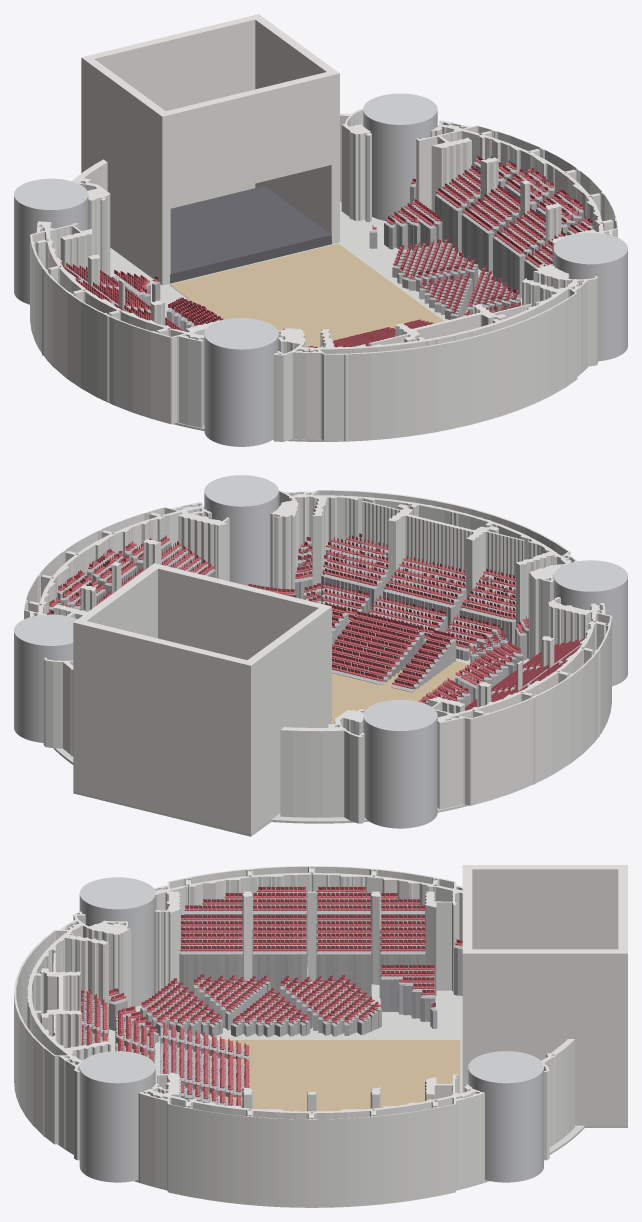
Rendered from olympichall.glb.
3 views of the same model, one above another, from view 1: azimuth 30°, elevation 25°; view 2: azimuth 150°, elevation 25°; view 3: azimuth 270°, elevation 25° (orthographic). The views are drawn at different scales.
Visible parts, largest first — view 1: wall, tower, floor, step, stage, seat_back, seat, ground; view 2: wall, tower, step, seat_back, seat, floor, ground; view 3: wall, step, tower, seat_back, floor, seat, ground.
Part boxes in pixels (left/top/right/bottom): wall: left=30, top=14, right=617, bottom=441; tower: left=14, top=93, right=627, bottom=446; floor: left=169, top=243, right=443, bottom=347; step: left=68, top=162, right=592, bottom=331; stage: left=170, top=186, right=331, bottom=283; seat_back: left=62, top=155, right=592, bottom=347; seat: left=62, top=158, right=592, bottom=347; ground: left=110, top=202, right=587, bottom=441; wall: left=24, top=489, right=611, bottom=834; tower: left=14, top=475, right=627, bottom=828; step: left=49, top=538, right=579, bottom=706; seat_back: left=47, top=533, right=584, bottom=710; seat: left=49, top=537, right=578, bottom=709; floor: left=332, top=646, right=469, bottom=724; ground: left=53, top=658, right=529, bottom=836; wall: left=14, top=865, right=627, bottom=1207; step: left=82, top=892, right=462, bottom=1107; tower: left=79, top=877, right=543, bottom=1182; seat_back: left=81, top=886, right=462, bottom=1105; floor: left=209, top=1040, right=460, bottom=1111; seat: left=81, top=889, right=462, bottom=1105; ground: left=58, top=963, right=627, bottom=1190.
Bounding box in the file's own units: 73.9 × 23.7 × 75.6.
